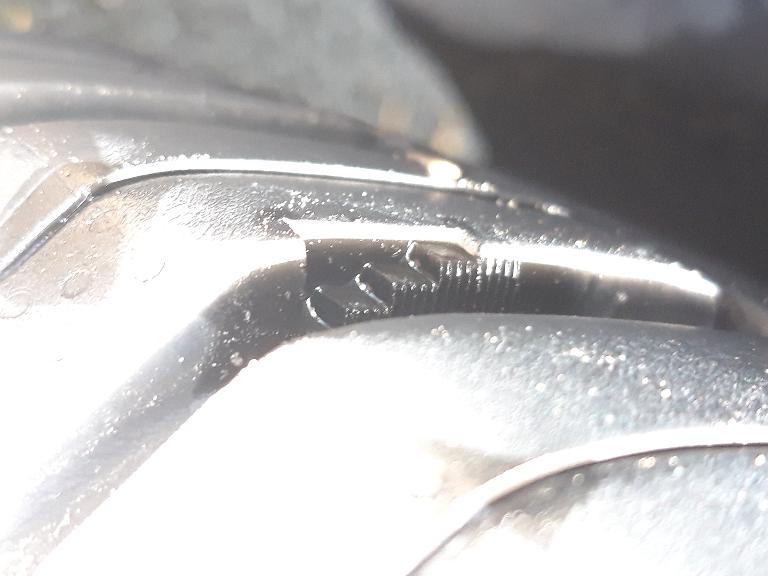temoin:90: (274, 211, 534, 348)
